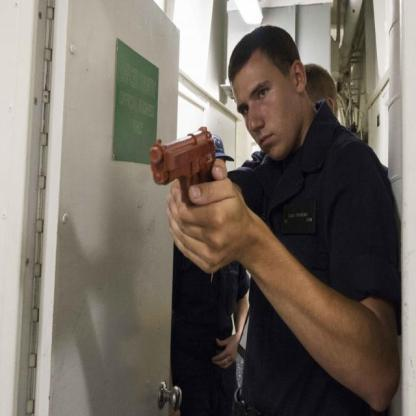criminal: (149, 26, 403, 412)
weapon: (149, 126, 218, 208)
